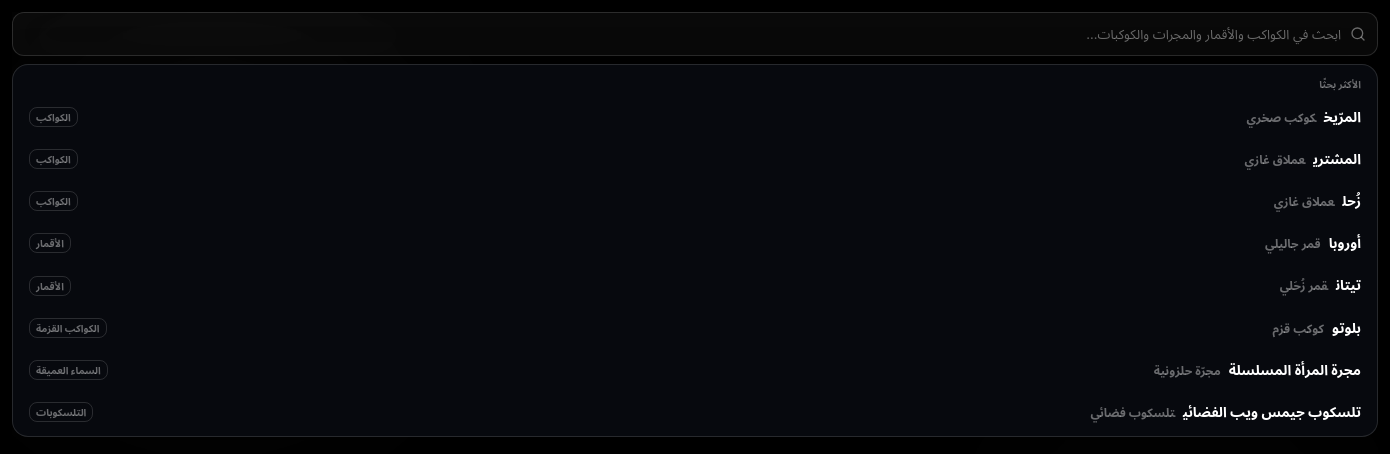
Test: search › finds a catalogue designation typed exactly as it is written
In the dropdown: (695, 34) left=12, top=12, right=1378, bottom=56, type "trappist"
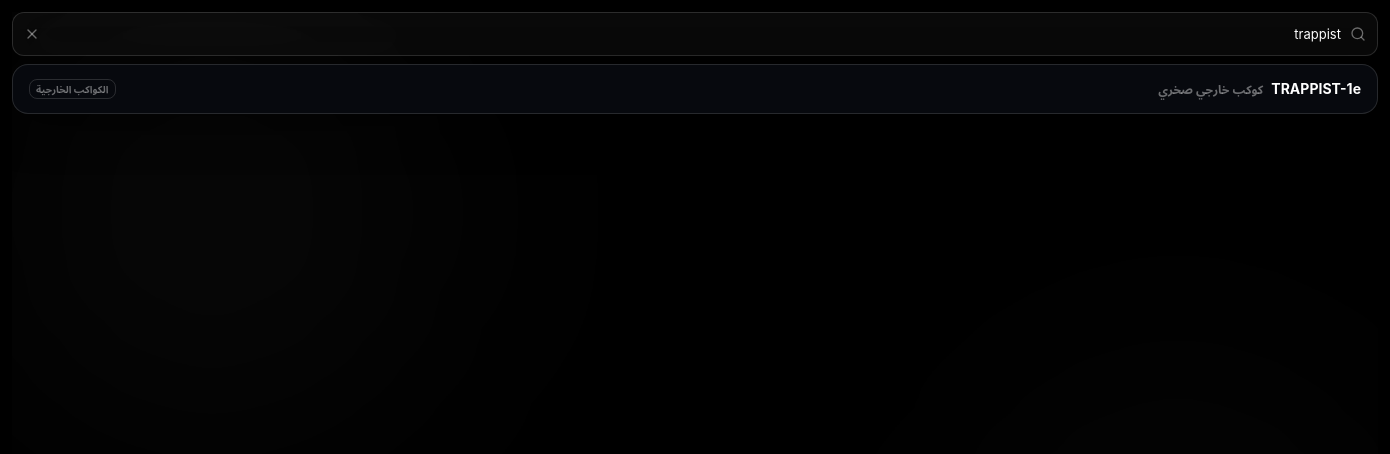
Expected: the option "TRAPPIST-1e" is shown, left=17, top=69, right=1373, bottom=109
